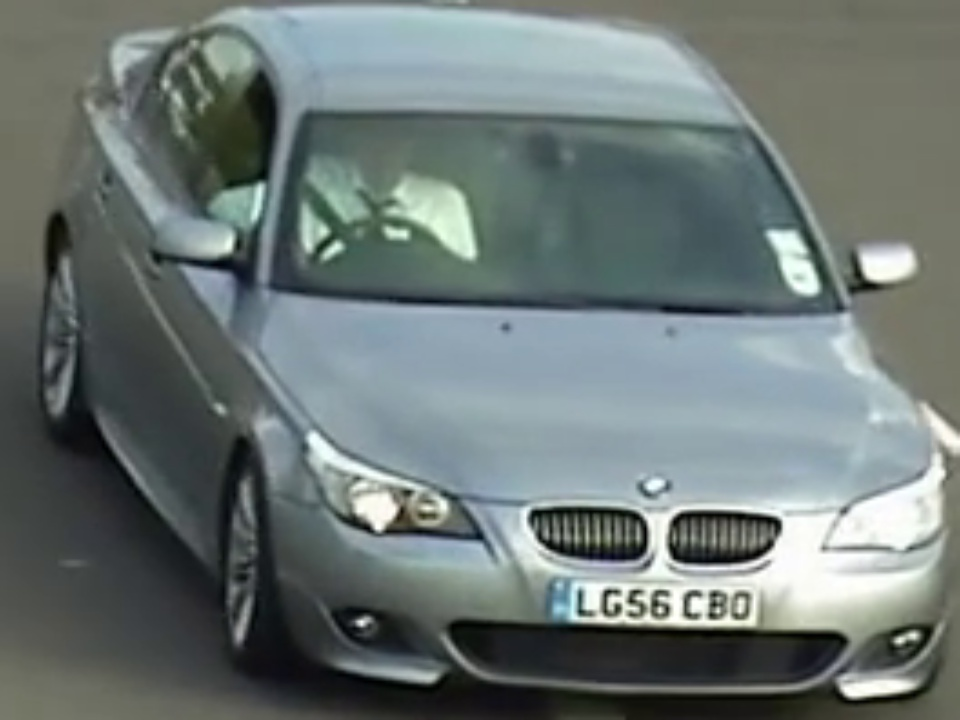ONE: (273, 112, 828, 321)
